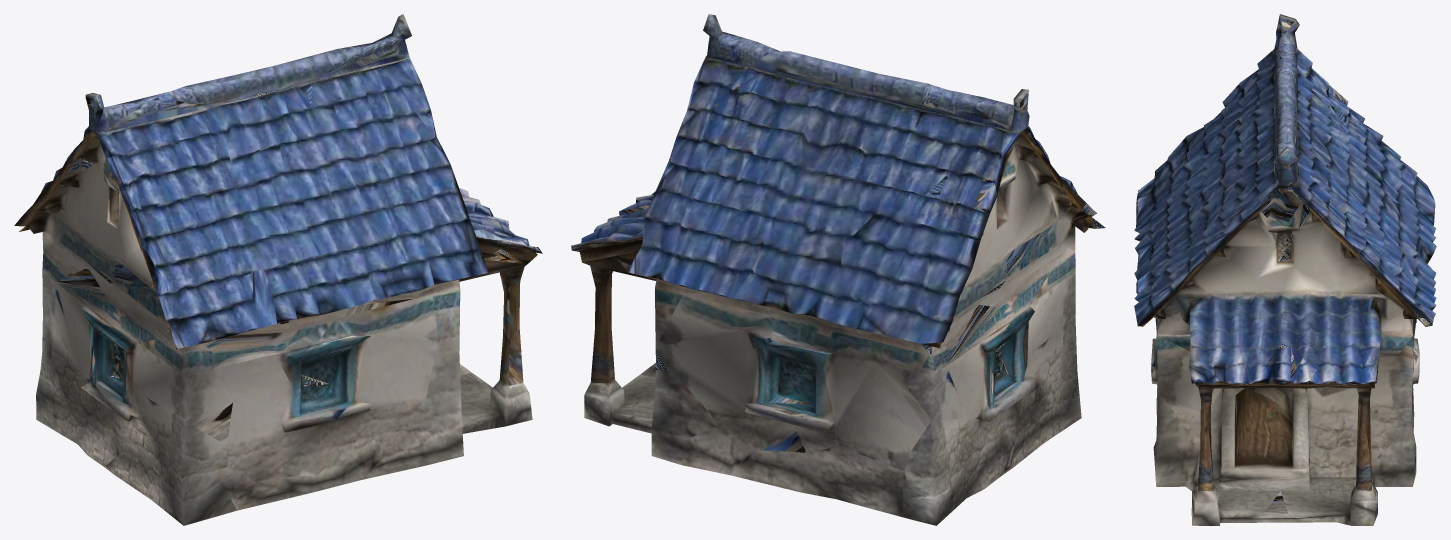
Rendered from house_cottage_1.glb.
The picture shows the model from 3 angles, left to right: view 1: azimuth 30°, elevation 25°; view 2: azimuth 150°, elevation 25°; view 3: azimuth 270°, elevation 25°; orthographic projection. The views are drawn at different scales.
Parts seen in each view (by area): view 1: tripo_node_c624b13c-2225-4914-8717-684f2fc18b02; view 2: tripo_node_c624b13c-2225-4914-8717-684f2fc18b02; view 3: tripo_node_c624b13c-2225-4914-8717-684f2fc18b02.
Part boxes in pixels (box(x1,y1,x2,y2)): tripo_node_c624b13c-2225-4914-8717-684f2fc18b02: box(14, 14, 542, 525); tripo_node_c624b13c-2225-4914-8717-684f2fc18b02: box(571, 14, 1105, 525); tripo_node_c624b13c-2225-4914-8717-684f2fc18b02: box(1134, 14, 1436, 525).
Size of the model in its own units: 0.9783 by 0.8948 by 0.7135.
Materials: 1 (1 with a texture image).
